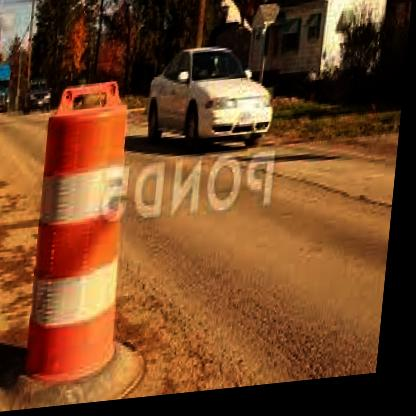obstacle: (24, 80, 140, 397)
